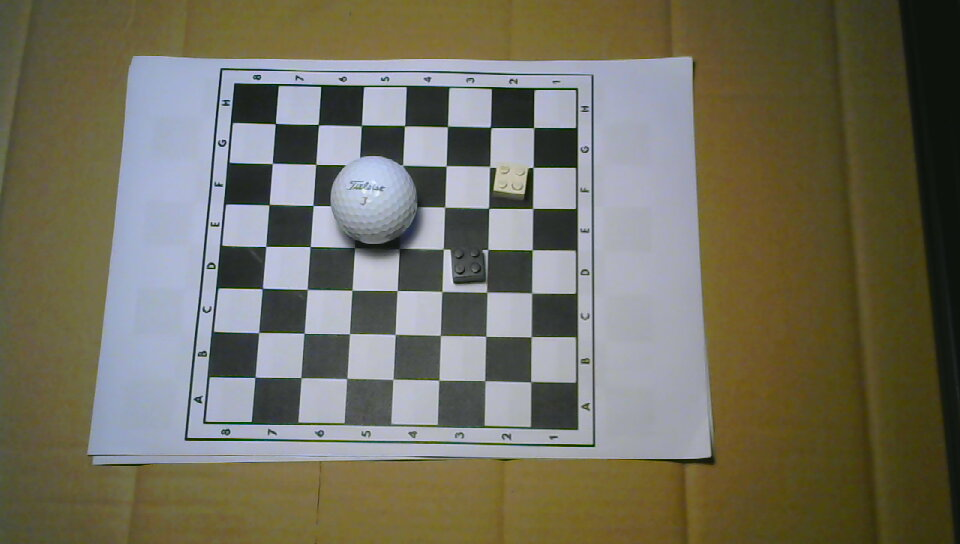bp: (449, 245, 487, 286)
wp: (492, 161, 531, 202)
